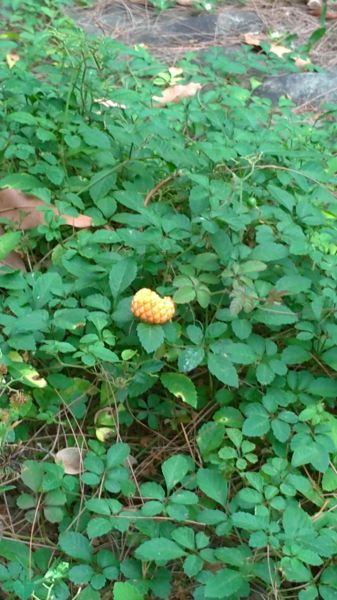eggs: (130, 288, 176, 327)
